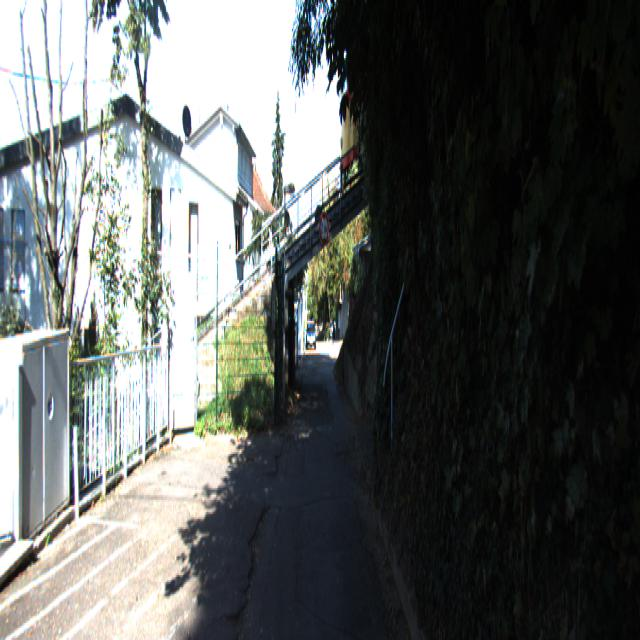Car: (306, 320, 316, 351)
